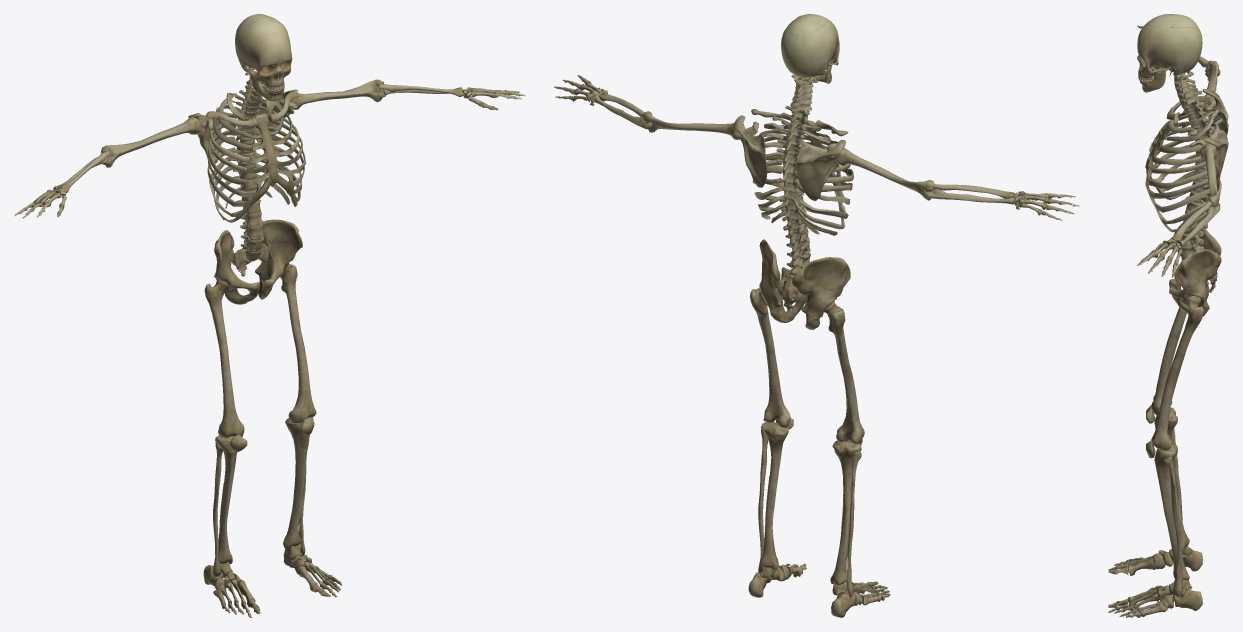
The model's file is Skeleton.gltf.
The picture shows the model from 3 angles, left to right: view 1: azimuth 30°, elevation 25°; view 2: azimuth 150°, elevation 25°; view 3: azimuth 270°, elevation 25°; orthographic projection. The views are drawn at different scales.
Visible parts, largest first — view 1: Skeletal_Ribs, Skeletal_Femur, Skeletal_Pelvis, Skeletal_Cranium, Skeletal_Tibia, Skeletal_Sternum, Skeletal_Vertebral_Column, Skeletal_Humerus, Skeletal_Metatarsal, Skeletal_Fibula, Skeletal_Scapula, Skeletal_Radius (+2 smaller); view 2: Skeletal_Pelvis, Skeletal_Femur, Skeletal_Ribs, Skeletal_Tibia, Skeletal_Cranium, Skeletal_Scapula, Skeletal_Vertebral_Column, Skeletal_Humerus, Skeletal_Fibula, Skeletal_Ulna, Skeletal_Radius, Skeletal_Calcaneus (+1 smaller); view 3: Skeletal_Ribs, Skeletal_Cranium, Skeletal_Femur, Skeletal_Pelvis, Skeletal_Tibia, Skeletal_Vertebral_Column, Skeletal_Fibula, Skeletal_Scapula, Skeletal_Humerus, Skeletal_Metatarsal, Skeletal_Sternum, Skeletal_Calcaneus (+11 smaller).
Boxes of the visible parts, box(x1,y1,x2,y2) form: Skeletal_Ribs: box(207, 92, 305, 221); Skeletal_Femur: box(204, 264, 316, 437); Skeletal_Pelvis: box(213, 219, 302, 304); Skeletal_Cranium: box(235, 14, 292, 87); Skeletal_Tibia: box(215, 417, 313, 563); Skeletal_Sternum: box(228, 112, 301, 222); Skeletal_Vertebral_Column: box(229, 90, 263, 260); Skeletal_Humerus: box(101, 79, 385, 167); Skeletal_Metatarsal: box(213, 562, 332, 607); Skeletal_Fibula: box(212, 441, 306, 576); Skeletal_Scapula: box(188, 89, 298, 163); Skeletal_Radius: box(57, 84, 464, 192); Skeletal_Pelvis: box(759, 239, 850, 329); Skeletal_Femur: box(750, 288, 864, 443); Skeletal_Ribs: box(752, 116, 853, 235); Skeletal_Tibia: box(760, 421, 861, 585); Skeletal_Cranium: box(781, 14, 839, 77); Skeletal_Scapula: box(733, 115, 846, 201); Skeletal_Vertebral_Column: box(775, 105, 810, 275); Skeletal_Humerus: box(643, 111, 934, 200); Skeletal_Fibula: box(758, 428, 861, 596); Skeletal_Ulna: box(593, 95, 1015, 204); Skeletal_Radius: box(599, 92, 1014, 198); Skeletal_Calcaneus: box(748, 572, 855, 617); Skeletal_Ribs: box(1150, 96, 1222, 234); Skeletal_Cranium: box(1137, 14, 1202, 78); Skeletal_Femur: box(1151, 296, 1203, 450); Skeletal_Pelvis: box(1169, 222, 1221, 316); Skeletal_Tibia: box(1154, 407, 1189, 580); Skeletal_Vertebral_Column: box(1180, 94, 1220, 260); Skeletal_Fibula: box(1163, 428, 1182, 596); Skeletal_Scapula: box(1189, 89, 1228, 187); Skeletal_Humerus: box(1199, 60, 1218, 212); Skeletal_Metatarsal: box(1128, 553, 1167, 617); Skeletal_Sternum: box(1145, 112, 1180, 232); Skeletal_Calcaneus: box(1173, 548, 1202, 610).
Bounding box in the file's own units: 1.71 × 1.83 × 0.3483.
2 materials, 2 textured.
